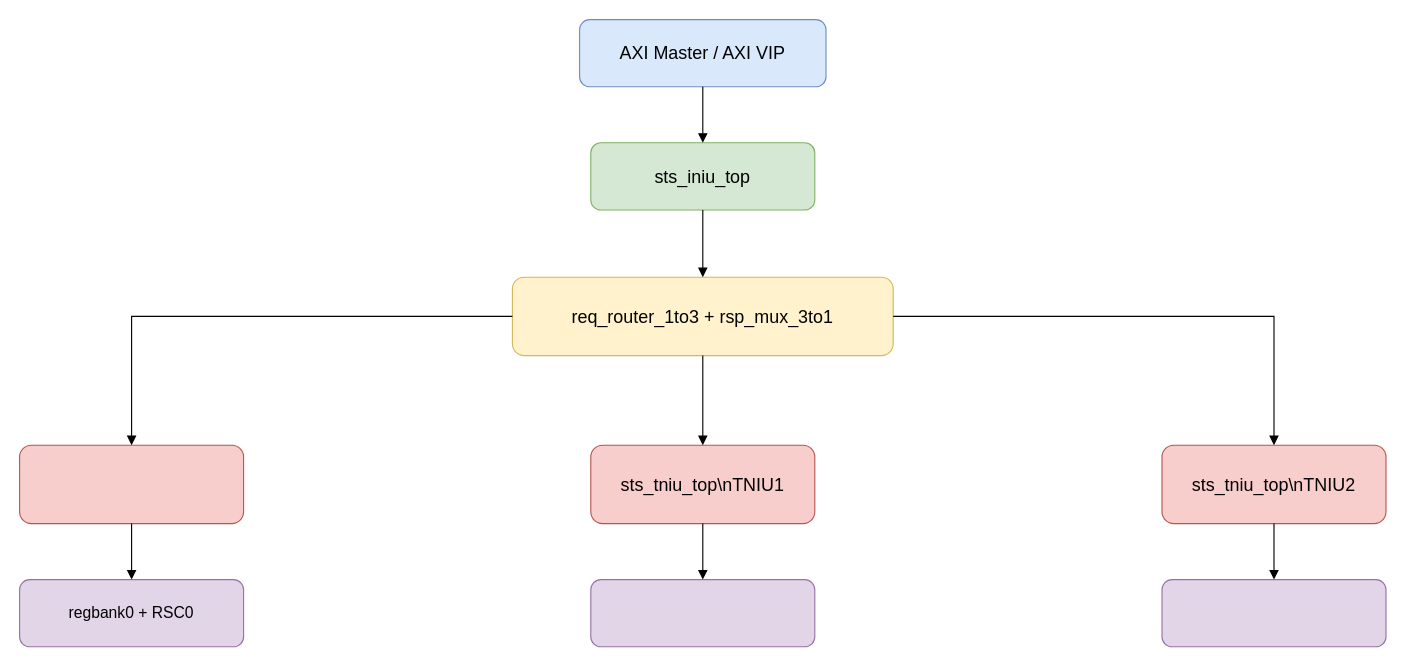
This 1406x666 diagram has some shape labels left out. The shapes that lost their labels are listed below. From the top down, each one's centre as x and y in pixels, then its label:
point (131, 484): sts_tniu_top\nTNIU0
point (702, 612): regbank1 + RSC1
point (1273, 612): regbank2 + RSC2
